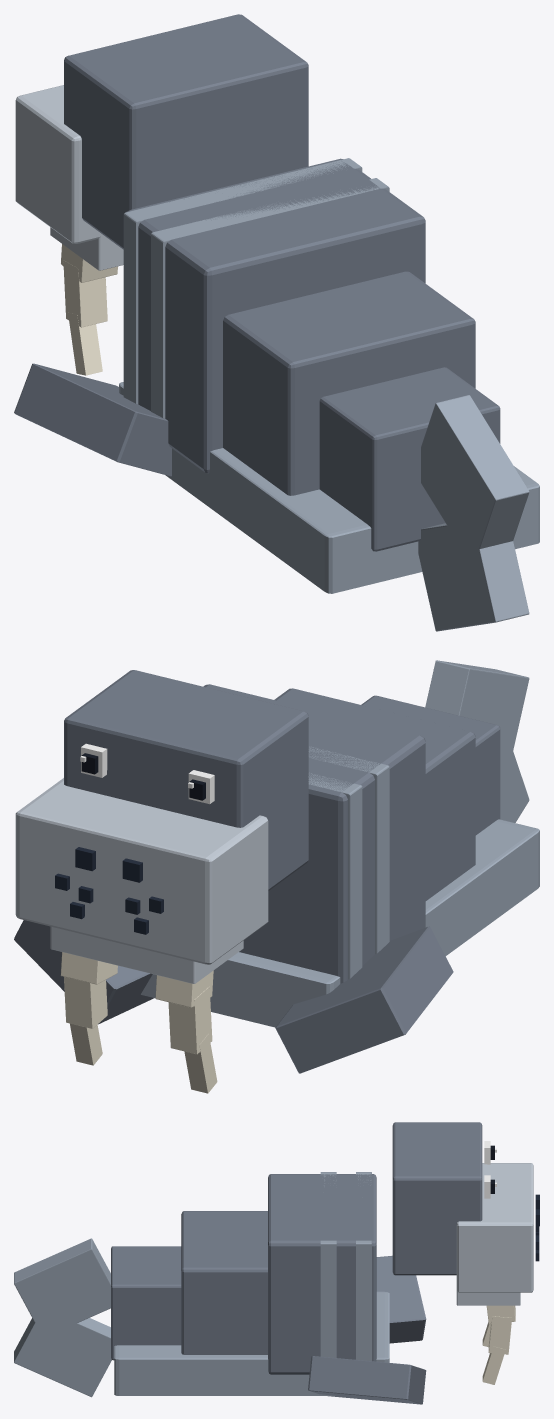
Rendered from walrus.glb.
3 renders of one model, top to bottom at view 1: azimuth 30°, elevation 25°; view 2: azimuth 150°, elevation 25°; view 3: azimuth 270°, elevation 25°, orthographic. The views are drawn at different scales.
Parts seen in each view (by area): view 1: body, head, fin.tail, fin.R; view 2: head, body, fin.R, fin.tail, fin.L; view 3: body, head, fin.tail, fin.L, fin.R.
Boxes of the visible parts, bbox=[...] form: body: bbox=[119, 158, 539, 593]; head: bbox=[15, 14, 308, 375]; fin.tail: bbox=[418, 395, 529, 631]; fin.R: bbox=[14, 363, 171, 476]; head: bbox=[15, 670, 308, 1093]; body: bbox=[141, 684, 539, 1027]; fin.R: bbox=[275, 926, 453, 1073]; fin.tail: bbox=[425, 660, 529, 822]; fin.L: bbox=[14, 920, 153, 1024]; body: bbox=[111, 1172, 389, 1395]; head: bbox=[392, 1122, 539, 1384]; fin.tail: bbox=[14, 1238, 111, 1397]; fin.L: bbox=[308, 1356, 426, 1404]; fin.R: bbox=[376, 1255, 426, 1343].
Size of the model in its own units: 1.01 by 0.9197 by 1.81.
